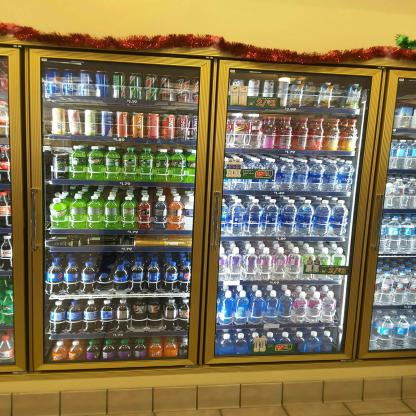Void: (397, 84, 413, 102), (97, 255, 111, 268)
